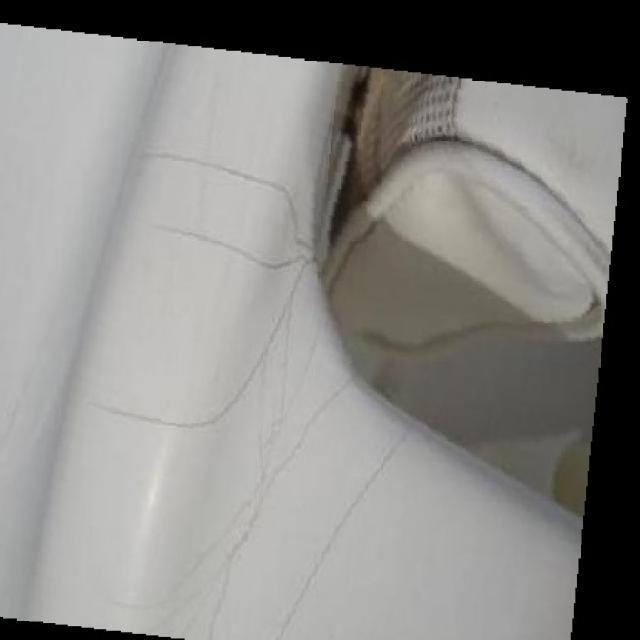crack: (141, 235, 310, 309), (90, 364, 207, 437), (186, 135, 306, 203)
